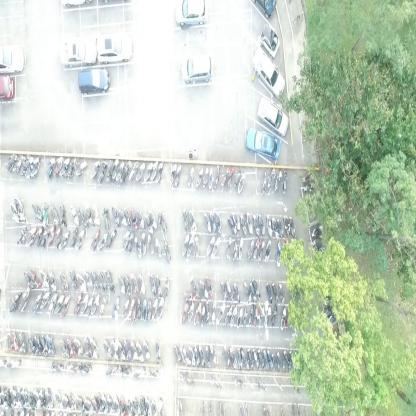car: (251, 45, 286, 97), (256, 95, 289, 138), (245, 127, 280, 160), (96, 32, 132, 64), (58, 39, 97, 66), (173, 0, 209, 27), (180, 54, 212, 84), (78, 68, 110, 95), (258, 22, 280, 58), (0, 42, 25, 73), (249, 0, 276, 20), (0, 72, 15, 100)
